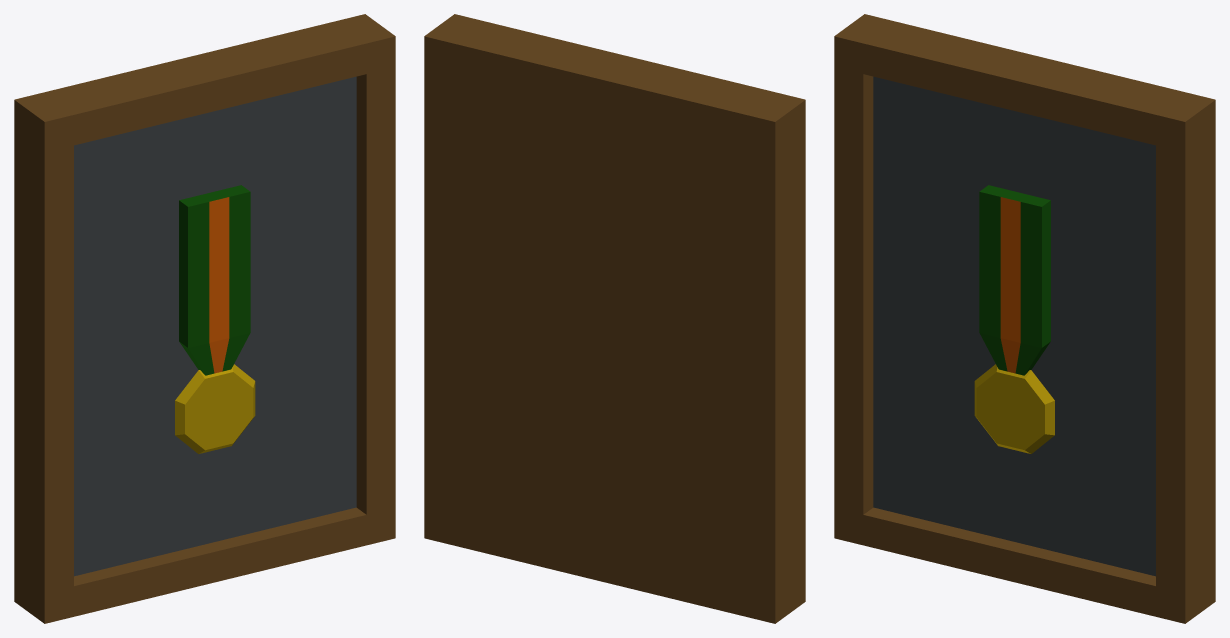
The model's file is WallAwardsV1Green.fbx.
3 renders of one model, left to right at view 1: azimuth 30°, elevation 25°; view 2: azimuth 150°, elevation 25°; view 3: azimuth 330°, elevation 25°, orthographic.
Visible parts, largest first — view 1: WallAwardsV1Green; view 2: WallAwardsV1Green; view 3: WallAwardsV1Green.
Boxes of the visible parts, box(x1,y1,x2,y2) form: WallAwardsV1Green: box(14, 14, 395, 623); WallAwardsV1Green: box(424, 14, 805, 623); WallAwardsV1Green: box(834, 14, 1215, 623).
Bounding box in the file's own units: 18 × 24.59 × 2.71.
